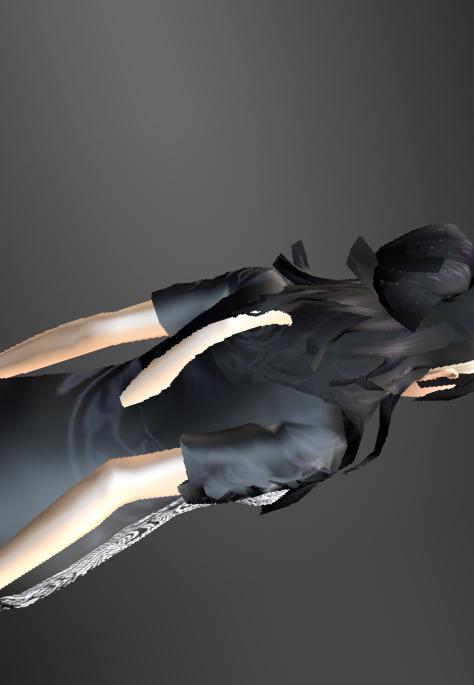clip: (173, 319, 277, 347)
